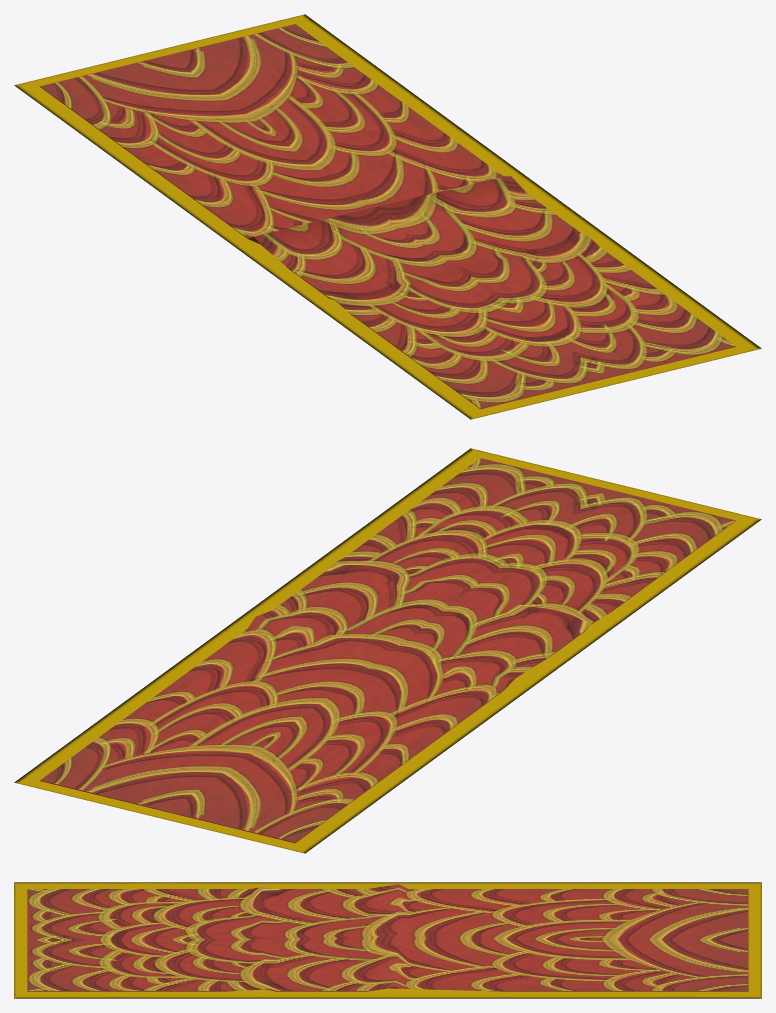
File: Carpet01_Art.fbx
The picture shows the model from 3 angles, top to bottom: view 1: azimuth 30°, elevation 25°; view 2: azimuth 150°, elevation 25°; view 3: azimuth 270°, elevation 25°; orthographic projection. The views are drawn at different scales.
Parts seen in each view (by area): view 1: Carpet01_Art; view 2: Carpet01_Art; view 3: Carpet01_Art.
Part boxes in pixels (box(x1,y1,x2,y2)): Carpet01_Art: box(14, 14, 761, 419); Carpet01_Art: box(14, 448, 761, 853); Carpet01_Art: box(14, 882, 761, 998).
Size of the model in its own units: 4.66 by 0.1012 by 12.66.
